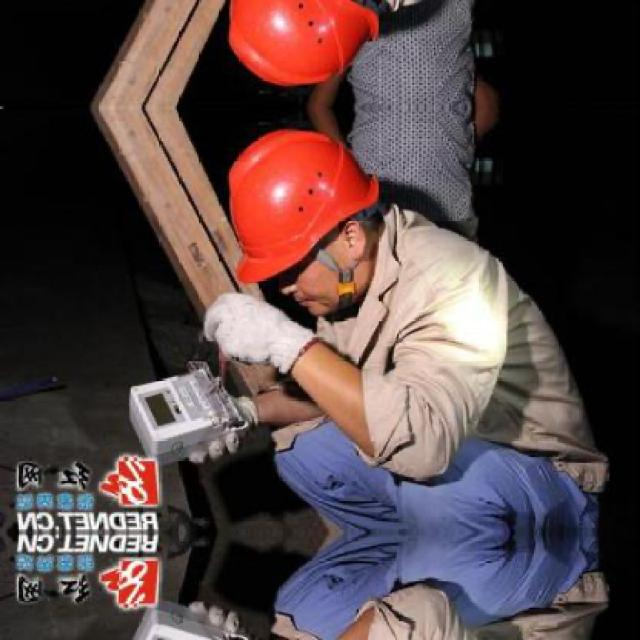con casco: (204, 114, 401, 310)
